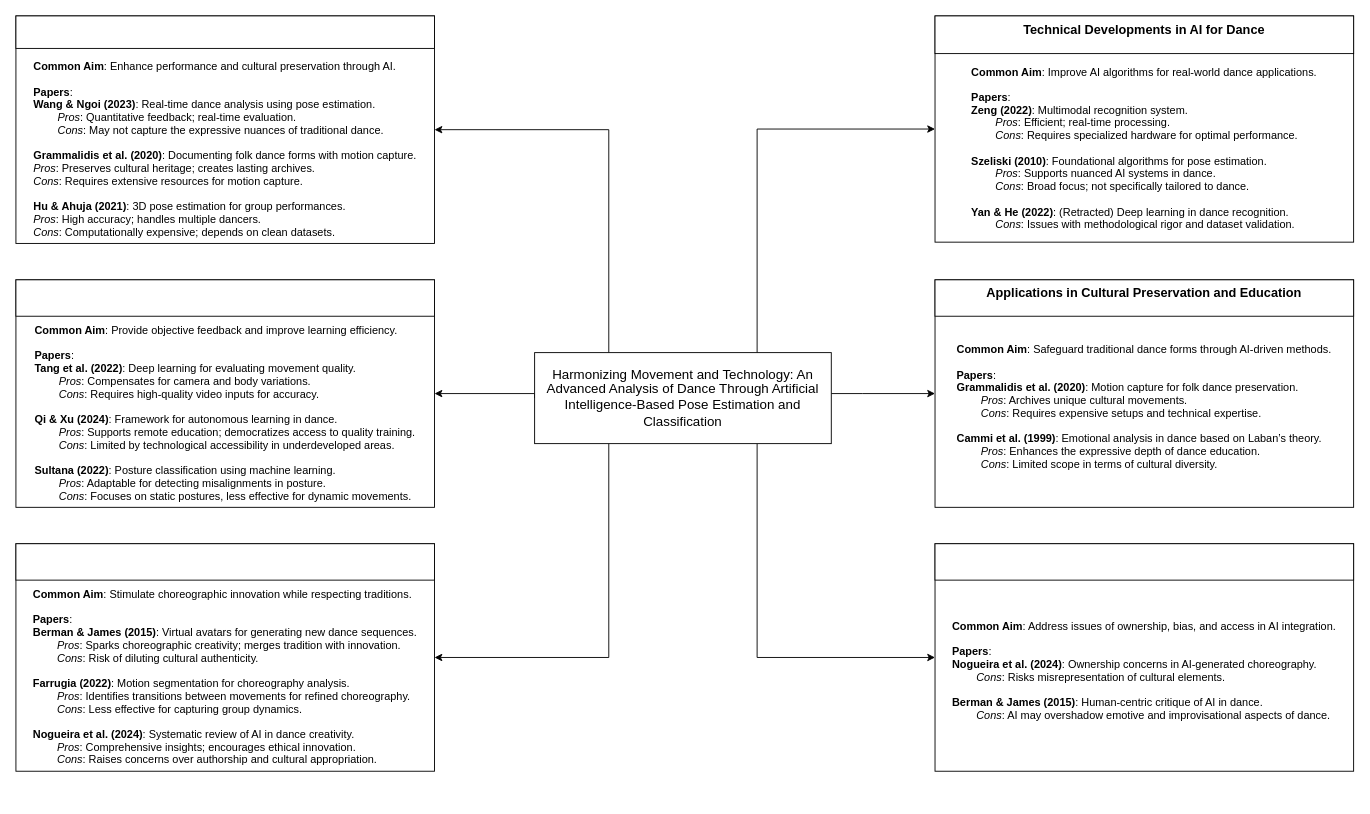
Image size: 1370x814. Some labels were removed from this diagram. Here are the shapes that lost their labels. From the top down, the centre of each, then its label:
At point (225, 31): "AI in Dance Performance and Practice".
At point (225, 297): "Pose Estimation in Dance Education".
At point (225, 561): "Enhancing Creativity Through AI".
At point (1144, 561): "Ethical and Practical Challenges".
